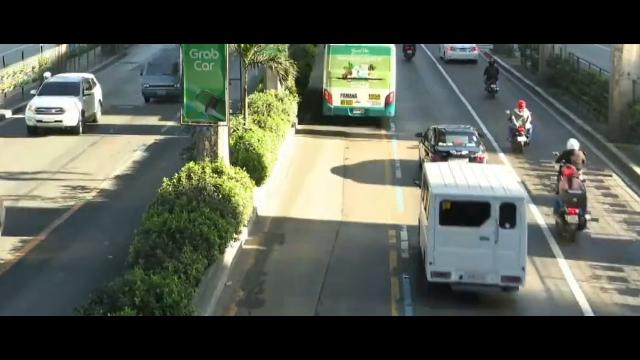bus: (321, 45, 396, 126)
car: (26, 72, 104, 139), (406, 121, 500, 169)
motorcycle: (553, 162, 586, 240), (555, 137, 586, 193), (509, 99, 531, 153), (482, 58, 502, 99)
van: (415, 162, 528, 295), (140, 50, 183, 107)
